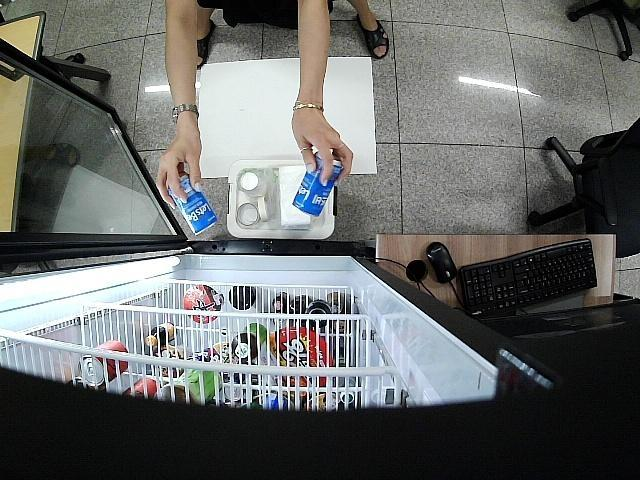15_letsbe: (294, 152, 344, 215), (168, 172, 218, 234)
